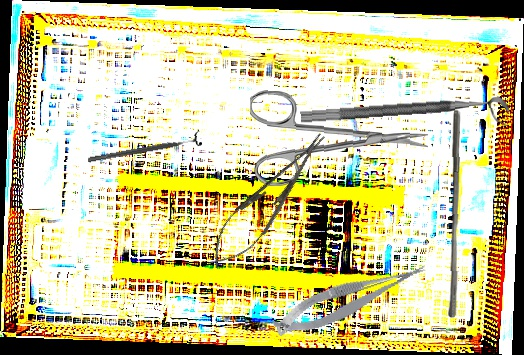Fixation Ring: (300, 95, 510, 141), (86, 129, 203, 169)
Iris Scissors: (247, 89, 430, 192)
Micro Scissor: (267, 258, 434, 342)
Needle Holder: (198, 122, 339, 279)
Pusher: (444, 110, 465, 318)
